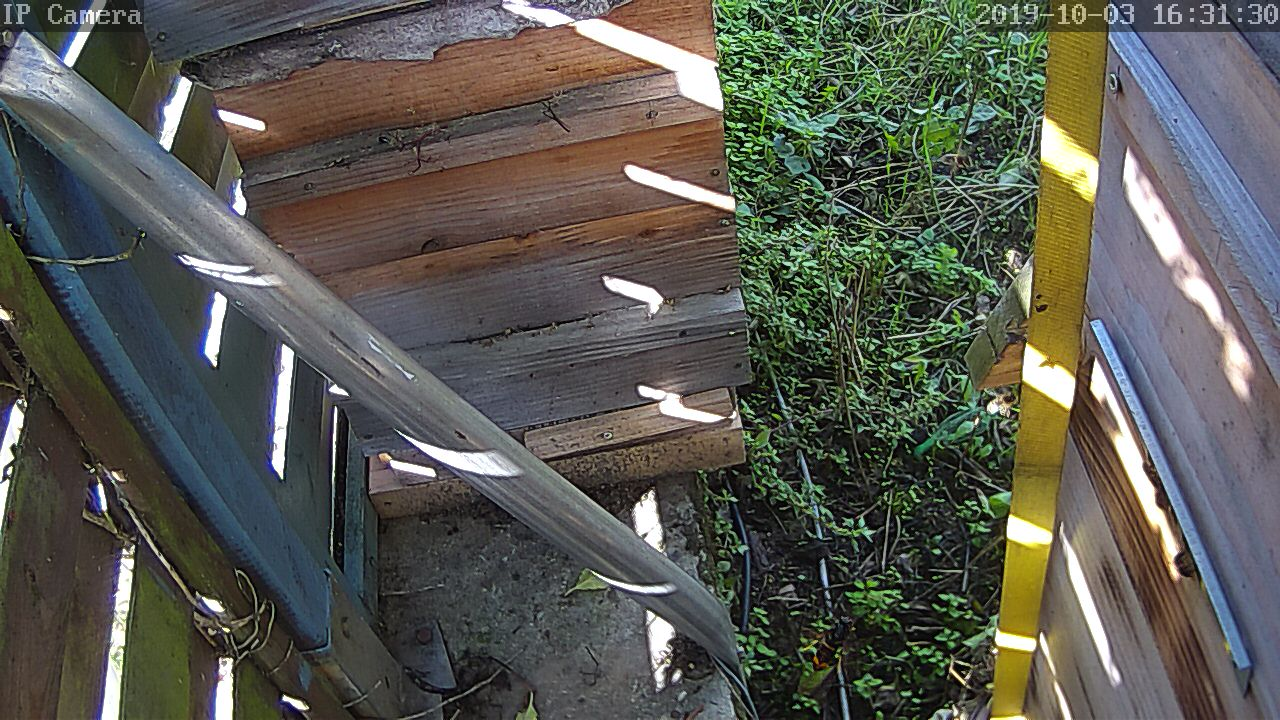bee: (1162, 532, 1203, 584)
hornet: (812, 614, 854, 678)
